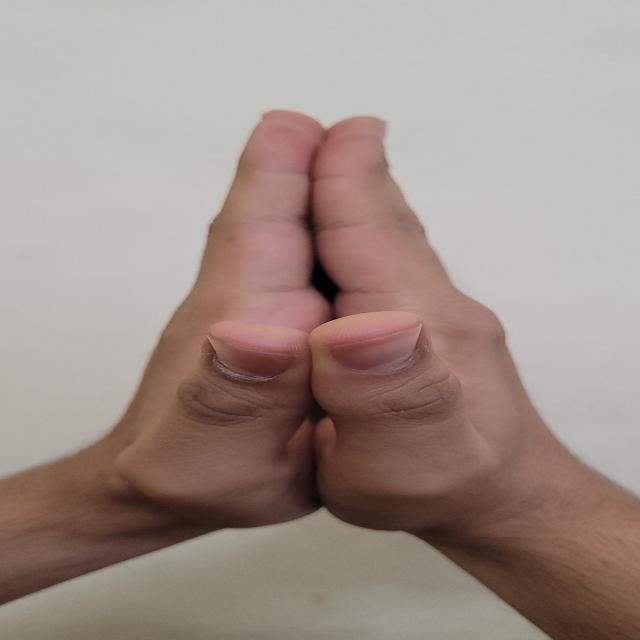Thank You: (5, 98, 639, 590)
